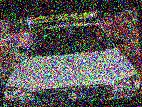car: (0, 19, 140, 107)
